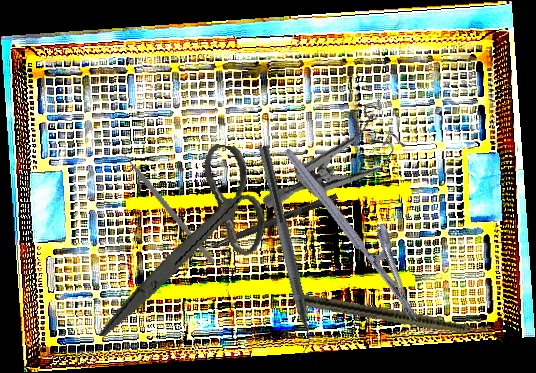Chopper: (94, 139, 243, 264), (244, 145, 321, 362)
Handpiece: (297, 292, 507, 345)
Hook Surgical: (188, 191, 339, 261)
Iris Scissors: (98, 129, 277, 361)
Needle Holder: (281, 129, 444, 325)
Speculum: (260, 89, 417, 247)
